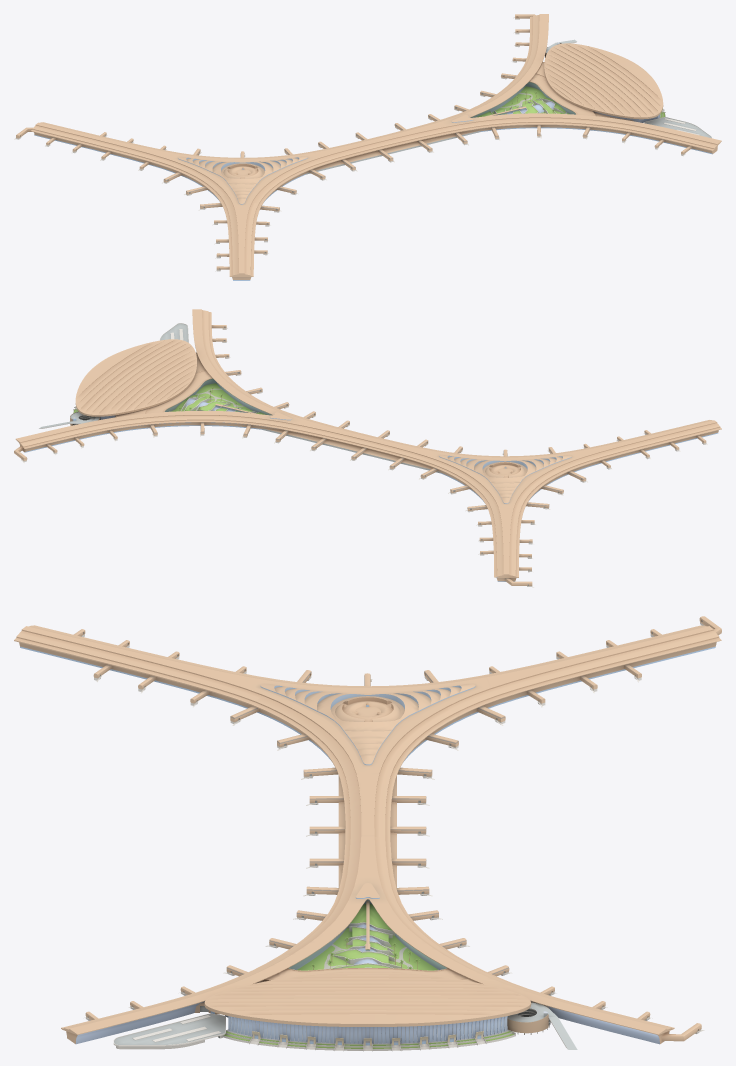
3 renders of one model, top to bottom at view 1: azimuth 30°, elevation 25°; view 2: azimuth 150°, elevation 25°; view 3: azimuth 270°, elevation 25°, orthographic. The views are drawn at different scales.
Visible parts, largest first — view 1: kingabdulazizairport; view 2: kingabdulazizairport; view 3: kingabdulazizairport.
Part boxes in pixels (x1,y1,x2,y2): kingabdulazizairport: (14,14,721,280); kingabdulazizairport: (14,309,721,587); kingabdulazizairport: (14,616,721,1051).
Bounding box in the file's own units: 1415 × 44.31 × 980.
Materials: 2 (2 with a texture image).
